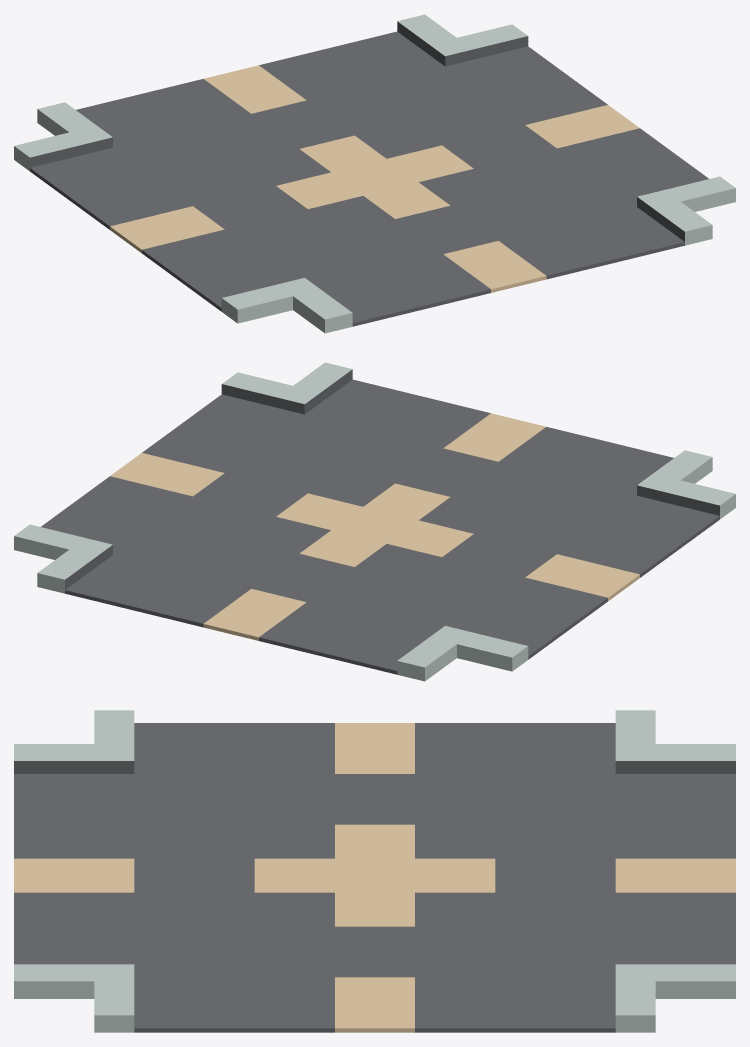
Rendered from 4_Road.fbx.
3 renders of one model, top to bottom at view 1: azimuth 30°, elevation 25°; view 2: azimuth 150°, elevation 25°; view 3: azimuth 270°, elevation 25°, orthographic. The views are drawn at different scales.
Visible parts, largest first — view 1: _Road; view 2: _Road; view 3: _Road.
Part boxes in pixels (x1,y1,x2,y2): _Road: (14, 14, 735, 333); _Road: (14, 362, 735, 681); _Road: (14, 710, 735, 1032).
Size of the model in its own units: 9 by 0.241 by 9.
